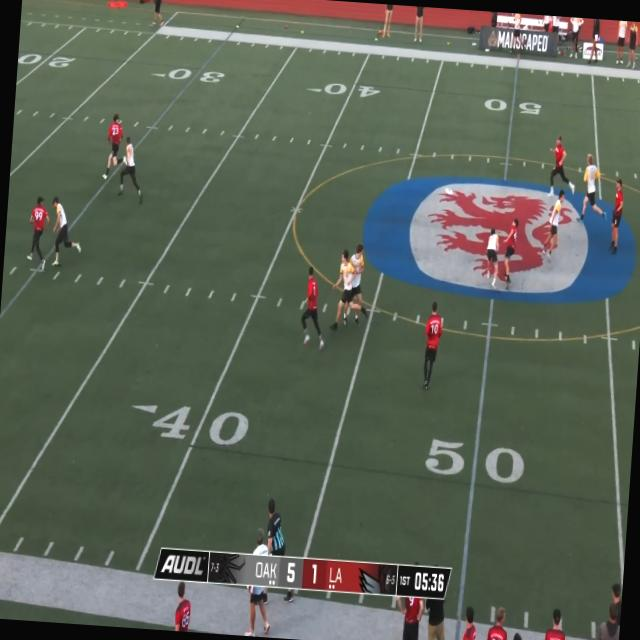Disc: (444, 188, 453, 195)
Player: (330, 250, 372, 332), (297, 264, 328, 350), (48, 196, 83, 267), (576, 153, 610, 221), (421, 301, 445, 392), (546, 136, 578, 198), (118, 137, 148, 201), (104, 111, 129, 183), (344, 242, 364, 325), (28, 194, 50, 268), (542, 188, 564, 261), (500, 218, 518, 290), (484, 228, 501, 289), (610, 178, 624, 252)
